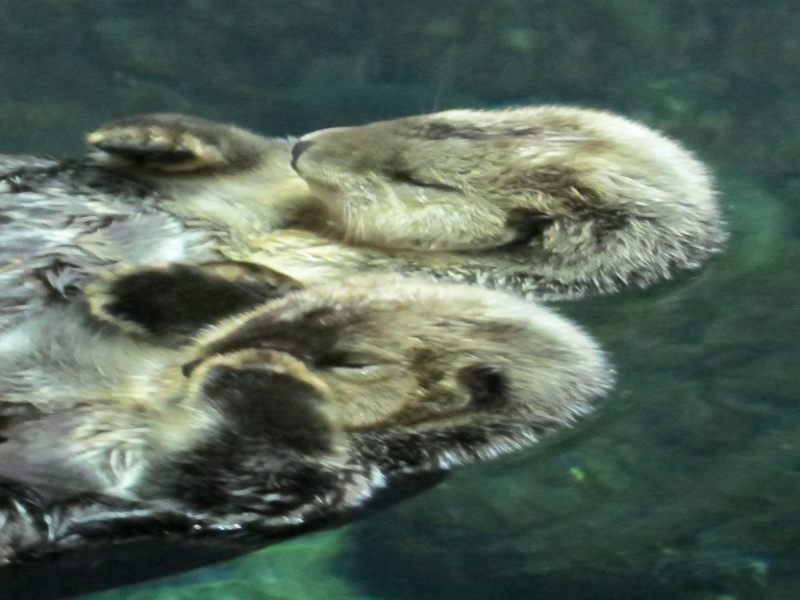minkish: (1, 282, 621, 568), (1, 98, 728, 288)
